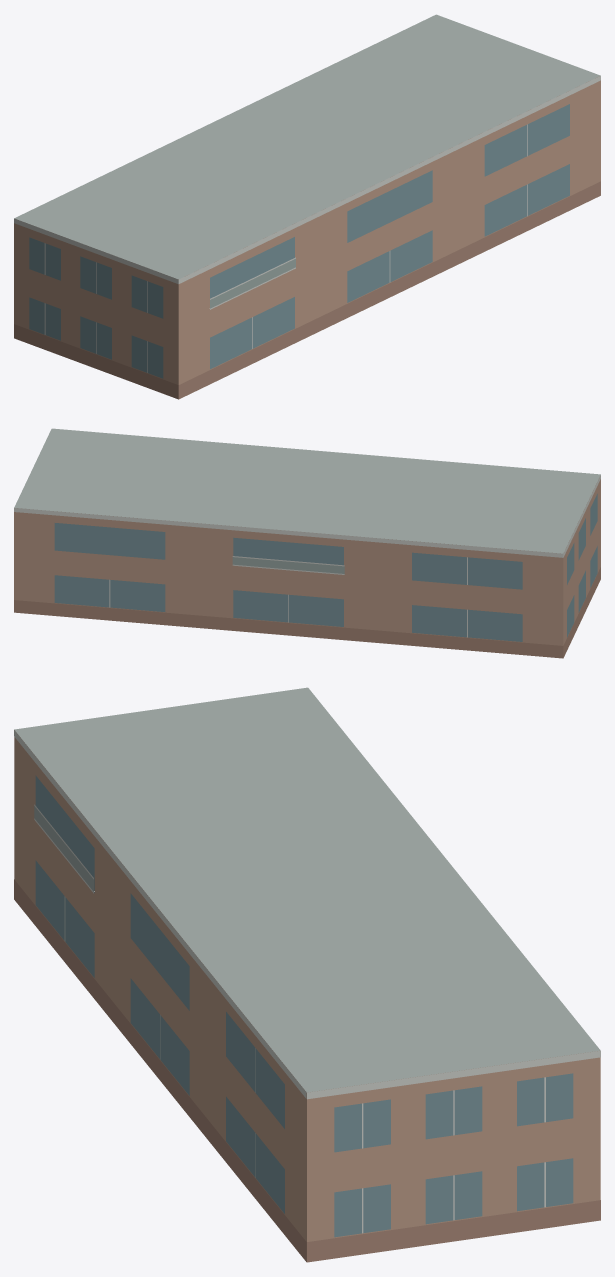
Rendered from survey-upis-32836602.glb.
3 views of the same model, one above another, from view 1: azimuth 30°, elevation 25°; view 2: azimuth 150°, elevation 25°; view 3: azimuth 270°, elevation 25° (orthographic). The views are drawn at different scales.
Visible parts, largest first — view 1: survey-upis-32836602.tmp; view 2: survey-upis-32836602.tmp; view 3: survey-upis-32836602.tmp.
Boxes of the visible parts, <box> form: survey-upis-32836602.tmp: <box>14,14,600,399</box>; survey-upis-32836602.tmp: <box>14,428,600,658</box>; survey-upis-32836602.tmp: <box>14,687,600,1262</box>.
Size of the model in its own units: 31.21 by 6.1 by 19.11.
